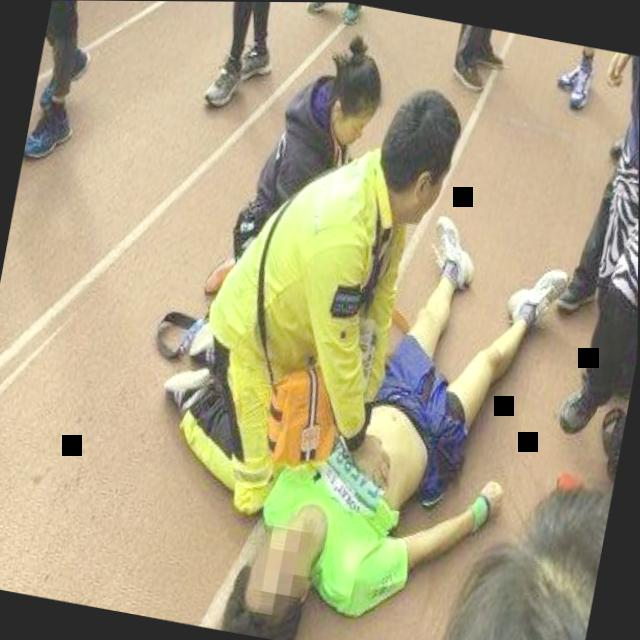Fall-Detected: (190, 157, 557, 640)
